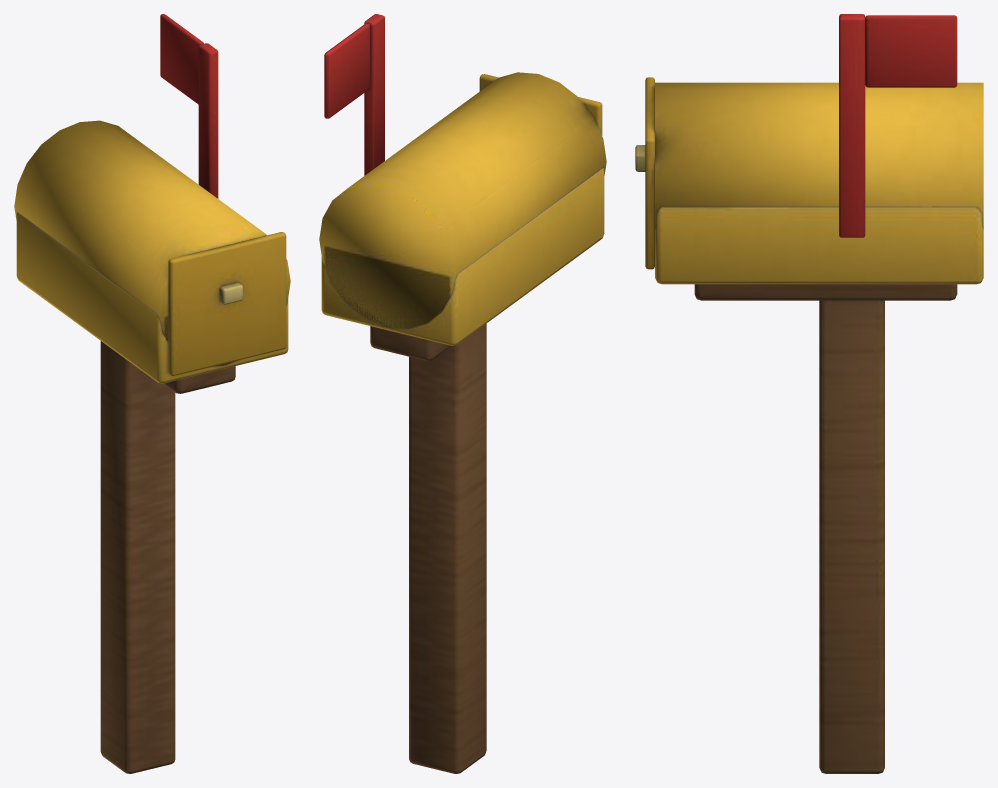
The model's file is mailbox_yellow.glb.
3 renders of one model, left to right at view 1: azimuth 30°, elevation 25°; view 2: azimuth 150°, elevation 25°; view 3: azimuth 270°, elevation 25°, orthographic. The views are drawn at different scales.
Visible parts, largest first — view 1: mailbox_yellow, mailbox_yellow_flag; view 2: mailbox_yellow, mailbox_yellow_flag; view 3: mailbox_yellow, mailbox_yellow_flag.
Part boxes in pixels (x1,y1,x2,y2): mailbox_yellow: [14, 120, 290, 773]; mailbox_yellow_flag: [160, 14, 218, 198]; mailbox_yellow: [319, 72, 606, 773]; mailbox_yellow_flag: [324, 14, 384, 175]; mailbox_yellow: [635, 77, 983, 773]; mailbox_yellow_flag: [839, 14, 957, 237].
Bounding box in the file's own units: 0.28 × 1.32 × 0.53.
5 materials, 5 textured.
